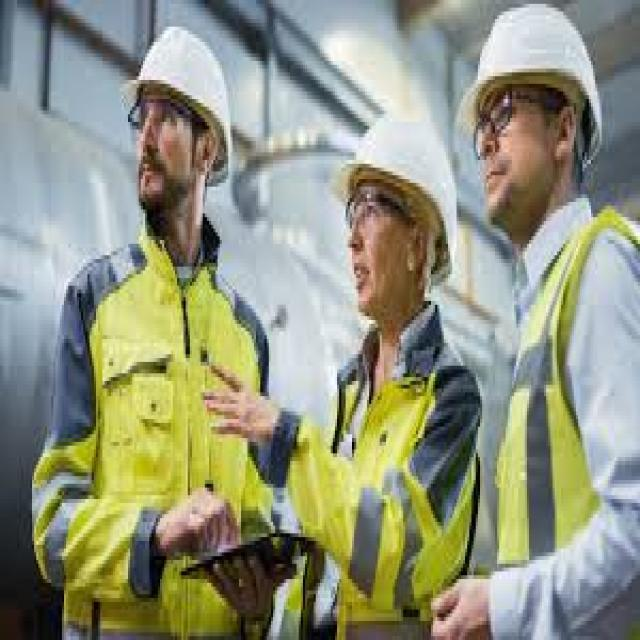white helmet: (441, 6, 619, 154), (326, 106, 461, 281), (114, 31, 246, 186)
